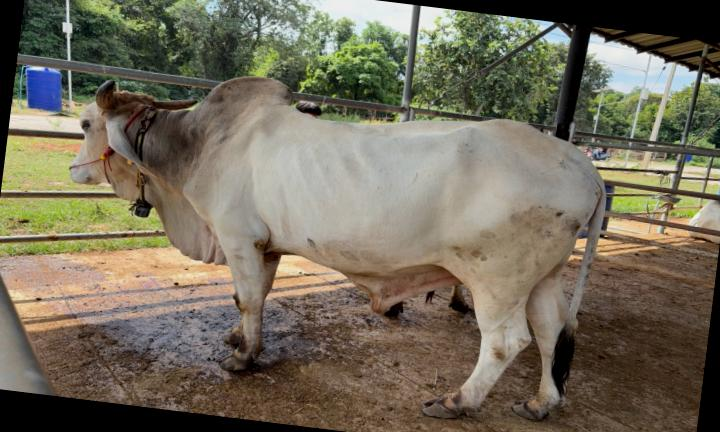Brahman: (70, 77, 605, 419)
